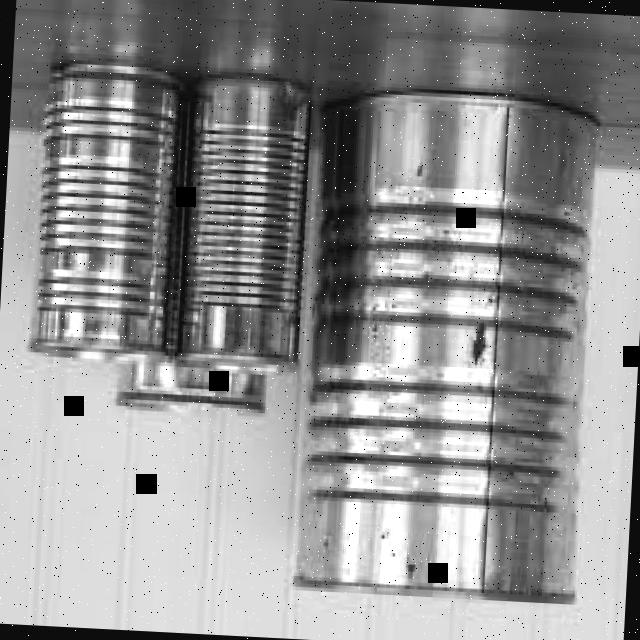can: (293, 84, 601, 609), (30, 62, 184, 366), (172, 70, 314, 378)
